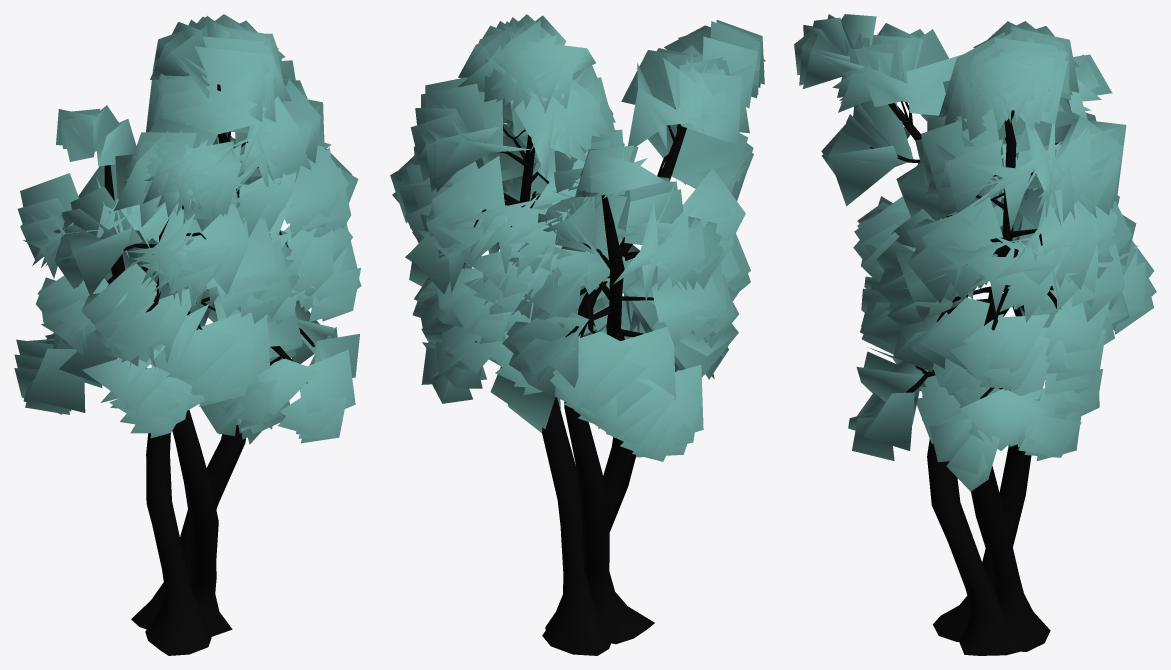
The model's file is MESH_JapaneseRed_01.fbx.
3 renders of one model, left to right at view 1: azimuth 30°, elevation 25°; view 2: azimuth 150°, elevation 25°; view 3: azimuth 270°, elevation 25°, orthographic. The views are drawn at different scales.
Visible parts, largest first — view 1: Mesh_01JapaneseRedLOD0; view 2: Mesh_01JapaneseRedLOD0; view 3: Mesh_01JapaneseRedLOD0.
Boxes of the visible parts, x1,y1,x2,y2 form: Mesh_01JapaneseRedLOD0: (14,14,361,655); Mesh_01JapaneseRedLOD0: (390,14,765,655); Mesh_01JapaneseRedLOD0: (794,14,1156,655).
Size of what is drawn, in the model's own units: 744 by 1344 by 709.
